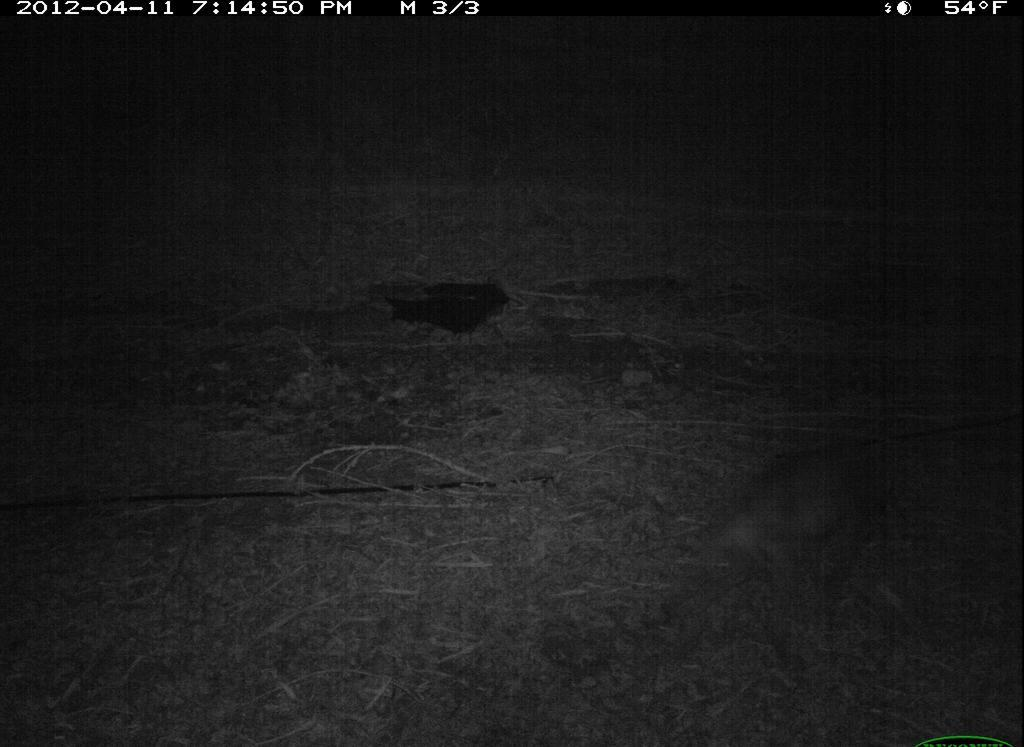coyote: (697, 431, 907, 605)
